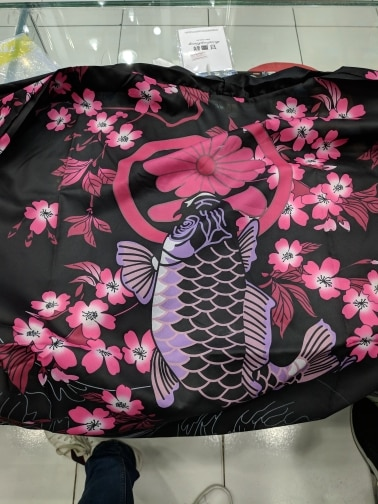shirts: (1, 56, 378, 440)
